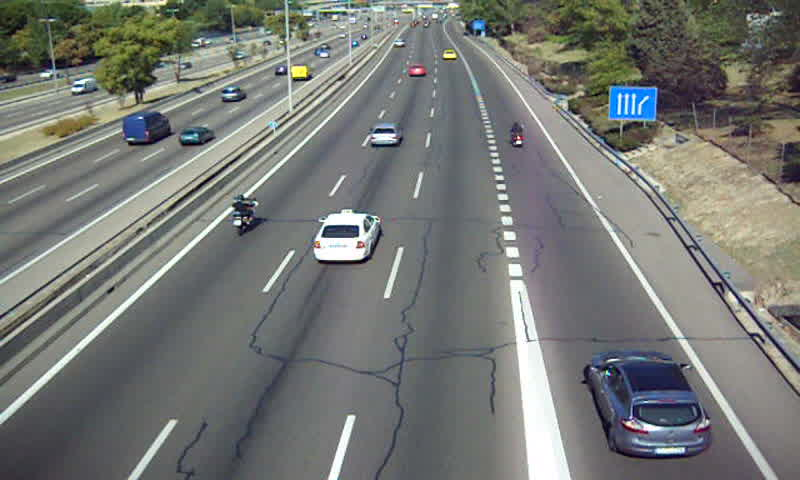car: (588, 350, 710, 455), (314, 213, 379, 262), (369, 122, 403, 147), (409, 64, 427, 78), (442, 49, 458, 60)
motorcycle: (229, 195, 258, 236), (509, 120, 525, 148)
